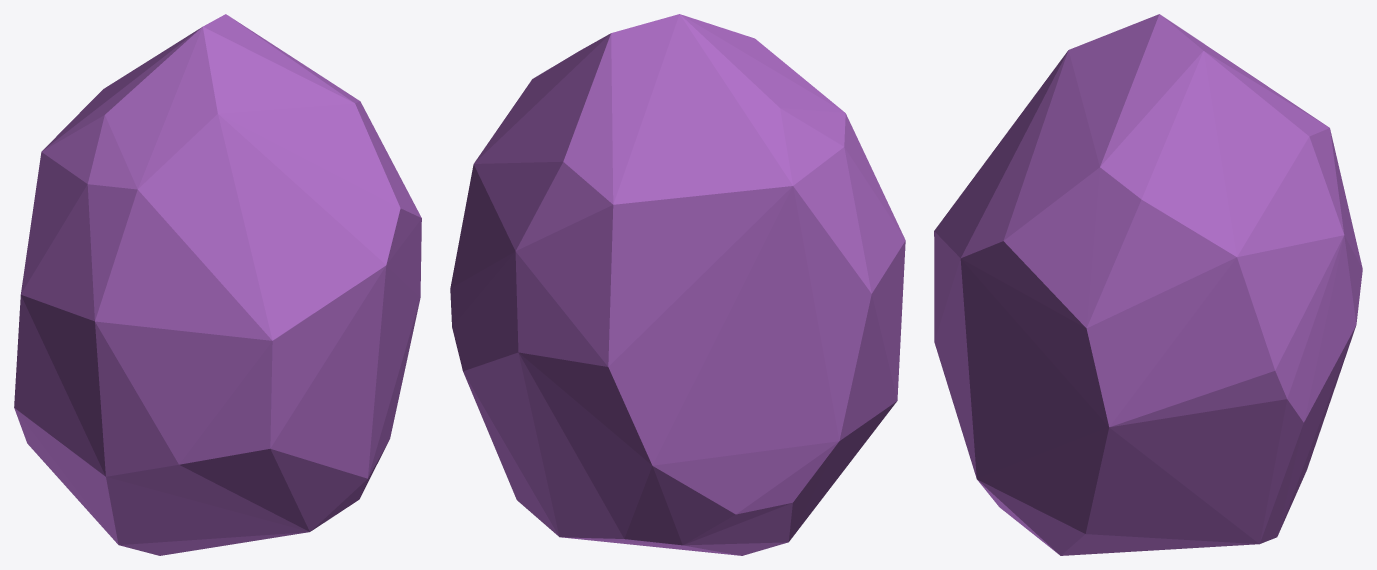
Rendered from food_produce_lemon_a08.glb.
3 renders of one model, left to right at view 1: azimuth 30°, elevation 25°; view 2: azimuth 150°, elevation 25°; view 3: azimuth 270°, elevation 25°, orthographic. The views are drawn at different scales.
Parts seen in each view (by area): view 1: geometry_0; view 2: geometry_0; view 3: geometry_0.
Part boxes in pixels (x1=…): geometry_0: x1=14, y1=14, x2=421, y2=555; geometry_0: x1=450, y1=14, x2=905, y2=555; geometry_0: x1=934, y1=14, x2=1362, y2=555.
Size of the model in its own units: 0.3451 by 0.4475 by 0.3256.
